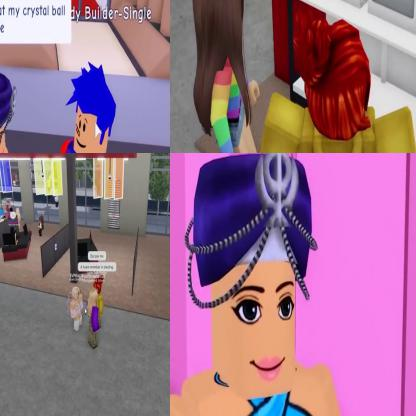Roblox-Avatar: (171, 154, 374, 416), (254, 10, 416, 153), (193, 1, 269, 153), (47, 62, 129, 153), (87, 288, 102, 350), (71, 288, 84, 333)
